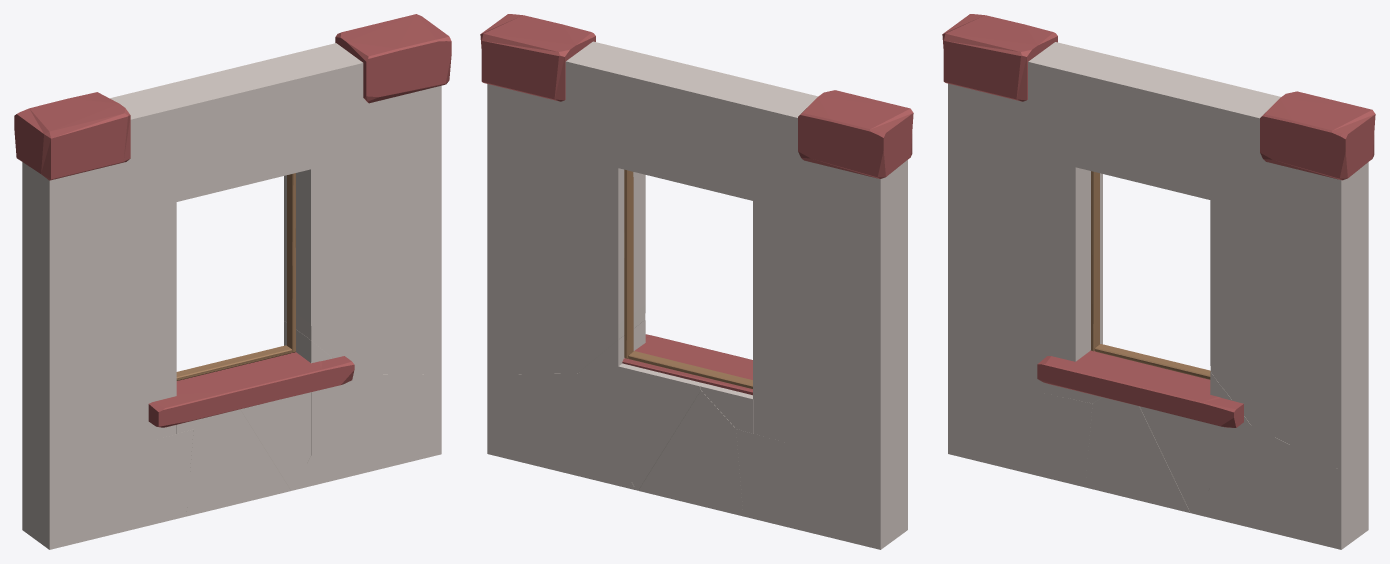
Rendered from PKF_PK_Wall_Window_Big_v1.fbx.
3 views of the same model, side by side, from view 1: azimuth 30°, elevation 25°; view 2: azimuth 150°, elevation 25°; view 3: azimuth 330°, elevation 25° (orthographic).
Parts seen in each view (by area): view 1: PK_Wall_Window_Big_Chunk_15, PK_Wall_Window_Big_Chunk_08, PK_Wall_Window_Big_Chunk_04, PK_Wall_Window_Big_Chunk_18, PK_Wall_Window_Big_Chunk_09, PK_Wall_Window_Big_Chunk_01, PK_Wall_Window_Big_Chunk_17, PK_Wall_Window_Big_Chunk_14, PK_Wall_Window_Big_Chunk_12, PK_Wall_Window_Big_Chunk_13, PK_Wall_Window_Big_Chunk_03, PK_Wall_Window_Big_Chunk_07 (+9 smaller); view 2: PK_Wall_Window_Big_Chunk_15, PK_Wall_Window_Big_Chunk_08, PK_Wall_Window_Big_Chunk_04, PK_Wall_Window_Big_Chunk_18, PK_Wall_Window_Big_Chunk_09, PK_Wall_Window_Big_Chunk_01, PK_Wall_Window_Big_Chunk_17, PK_Wall_Window_Big_Chunk_14, PK_Wall_Window_Big_Chunk_12, PK_Wall_Window_Big_Chunk_13, PK_Wall_Window_Big_Chunk_03, PK_Wall_Window_Big_Chunk_02 (+9 smaller); view 3: PK_Wall_Window_Big_Chunk_08, PK_Wall_Window_Big_Chunk_15, PK_Wall_Window_Big_Chunk_01, PK_Wall_Window_Big_Chunk_12, PK_Wall_Window_Big_Chunk_18, PK_Wall_Window_Big_Chunk_17, PK_Wall_Window_Big_Chunk_14, PK_Wall_Window_Big_Chunk_04, PK_Wall_Window_Big_Chunk_09, PK_Wall_Window_Big_Chunk_13, PK_Wall_Window_Big_Chunk_07, PK_Wall_Window_Big_Chunk_03 (+9 smaller).
Boxes of the visible parts, left/top/right/bottom form: PK_Wall_Window_Big_Chunk_15: left=306, top=14, right=451, bottom=176; PK_Wall_Window_Big_Chunk_08: left=284, top=230, right=441, bottom=374; PK_Wall_Window_Big_Chunk_04: left=22, top=382, right=138, bottom=549; PK_Wall_Window_Big_Chunk_18: left=14, top=92, right=151, bottom=227; PK_Wall_Window_Big_Chunk_09: left=22, top=256, right=140, bottom=401; PK_Wall_Window_Big_Chunk_01: left=294, top=374, right=441, bottom=490; PK_Wall_Window_Big_Chunk_17: left=150, top=63, right=279, bottom=201; PK_Wall_Window_Big_Chunk_14: left=230, top=50, right=340, bottom=200; PK_Wall_Window_Big_Chunk_12: left=317, top=127, right=441, bottom=248; PK_Wall_Window_Big_Chunk_13: left=22, top=170, right=164, bottom=284; PK_Wall_Window_Big_Chunk_03: left=216, top=352, right=320, bottom=490; PK_Wall_Window_Big_Chunk_07: left=84, top=329, right=186, bottom=444; PK_Wall_Window_Big_Chunk_15: left=480, top=14, right=623, bottom=175; PK_Wall_Window_Big_Chunk_08: left=487, top=229, right=645, bottom=374; PK_Wall_Window_Big_Chunk_04: left=791, top=382, right=907, bottom=549; PK_Wall_Window_Big_Chunk_18: left=778, top=90, right=913, bottom=226; PK_Wall_Window_Big_Chunk_09: left=789, top=255, right=907, bottom=401; PK_Wall_Window_Big_Chunk_01: left=487, top=373, right=635, bottom=489; PK_Wall_Window_Big_Chunk_17: left=650, top=62, right=779, bottom=200; PK_Wall_Window_Big_Chunk_14: left=588, top=49, right=699, bottom=199; PK_Wall_Window_Big_Chunk_12: left=487, top=126, right=612, bottom=247; PK_Wall_Window_Big_Chunk_13: left=765, top=169, right=907, bottom=283; PK_Wall_Window_Big_Chunk_03: left=618, top=336, right=735, bottom=490; PK_Wall_Window_Big_Chunk_02: left=638, top=390, right=743, bottom=516; PK_Wall_Window_Big_Chunk_08: left=1210, top=305, right=1368, bottom=470; PK_Wall_Window_Big_Chunk_15: left=1232, top=91, right=1375, bottom=271; PK_Wall_Window_Big_Chunk_01: left=1193, top=426, right=1368, bottom=549; PK_Wall_Window_Big_Chunk_12: left=1216, top=172, right=1368, bottom=324; PK_Wall_Window_Big_Chunk_18: left=942, top=14, right=1076, bottom=130; PK_Wall_Window_Big_Chunk_17: left=1075, top=53, right=1205, bottom=179; PK_Wall_Window_Big_Chunk_14: left=1129, top=78, right=1258, bottom=231; PK_Wall_Window_Big_Chunk_04: left=948, top=305, right=1037, bottom=462; PK_Wall_Window_Big_Chunk_09: left=948, top=179, right=1039, bottom=311; PK_Wall_Window_Big_Chunk_13: left=948, top=118, right=1063, bottom=222; PK_Wall_Window_Big_Chunk_07: left=983, top=275, right=1102, bottom=399; PK_Wall_Window_Big_Chunk_03: left=1118, top=364, right=1210, bottom=513.
Bounding box in the file's own units: 206 × 204 × 35.04.
